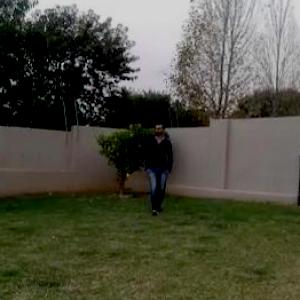follow: (144, 121, 168, 219)
